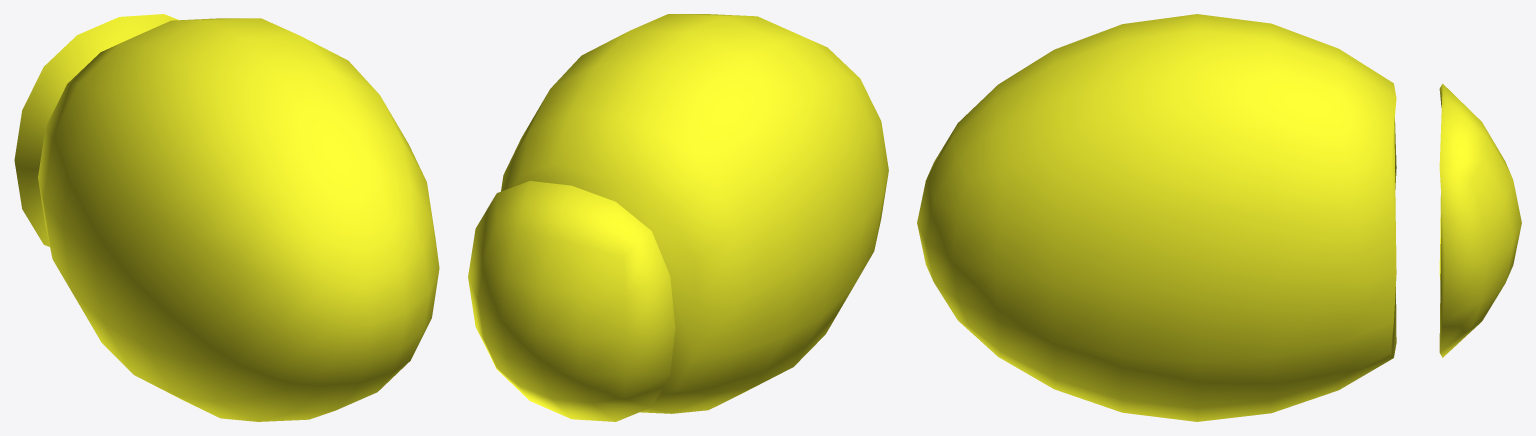
The model's file is kentang 1.fbx.
3 renders of one model, left to right at view 1: azimuth 30°, elevation 25°; view 2: azimuth 150°, elevation 25°; view 3: azimuth 270°, elevation 25°, orthographic. The views are drawn at different scales.
Parts seen in each view (by area): view 1: kentang.001, kentang.002; view 2: kentang.001, kentang.002; view 3: kentang.001, kentang.002.
Part boxes in pixels (x1=…): kentang.001: x1=38, y1=18, x2=439, y2=421; kentang.002: x1=14, y1=14, x2=178, y2=246; kentang.001: x1=501, y1=14, x2=888, y2=413; kentang.002: x1=468, y1=181, x2=675, y2=421; kentang.001: x1=917, y1=14, x2=1396, y2=421; kentang.002: x1=1439, y1=83, x2=1521, y2=357.
Size of the model in its own units: 235 by 274 by 402.
